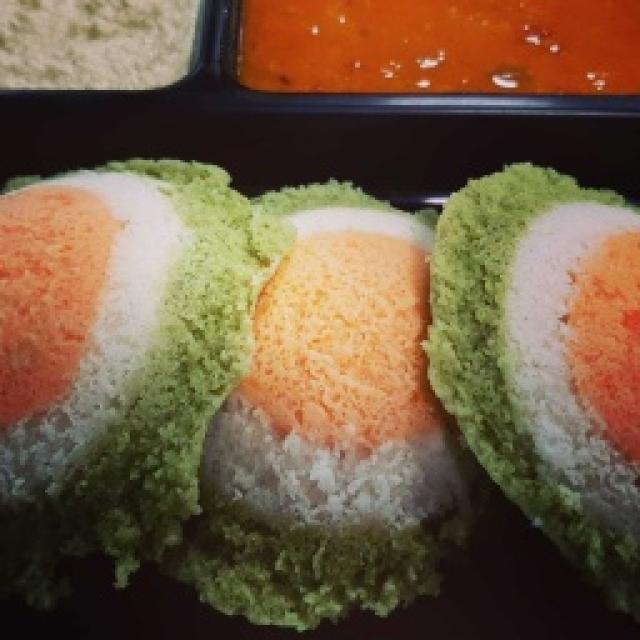idli: (0, 177, 606, 598)
